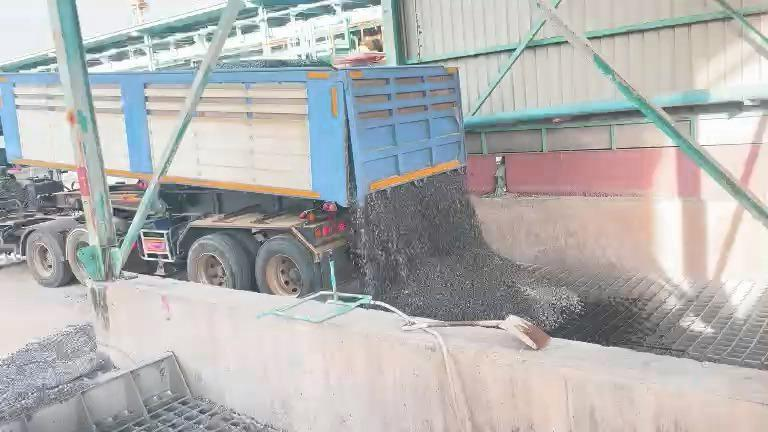gravel: (354, 171, 582, 328), (1, 324, 103, 420), (216, 58, 335, 70)
